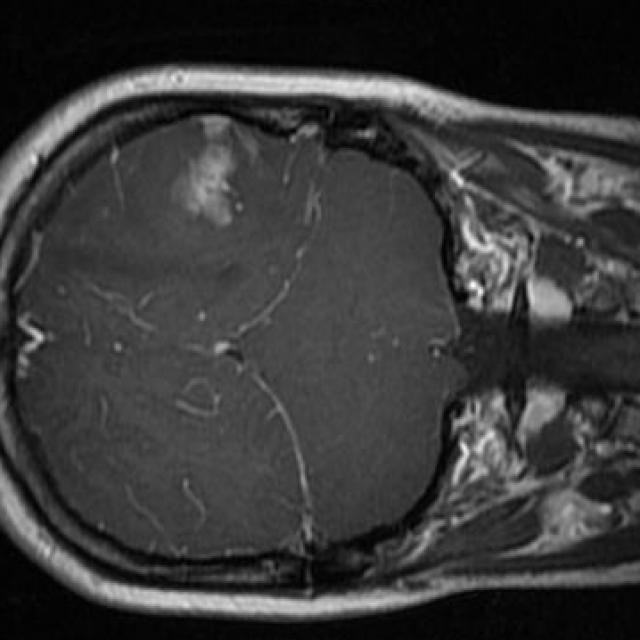glioma: (171, 116, 260, 230)
